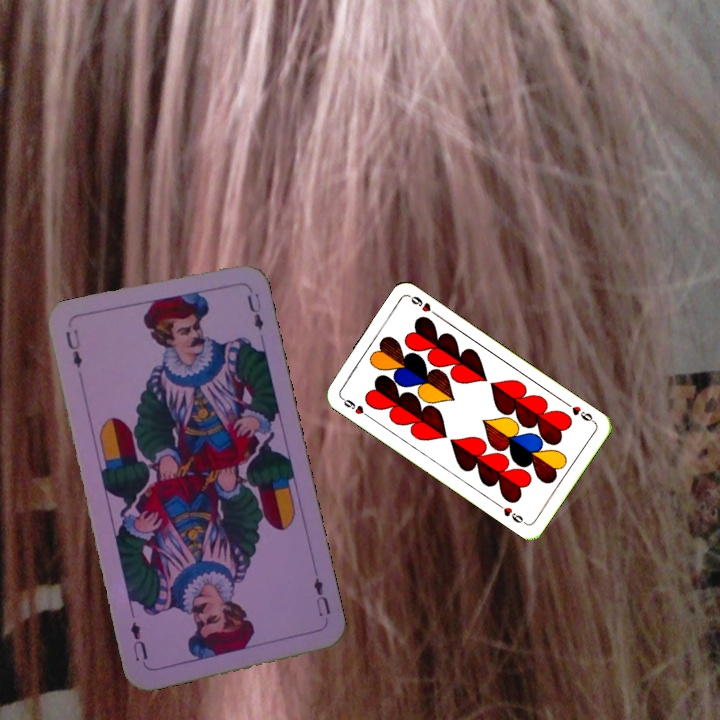EU: (309, 573, 333, 620), (61, 325, 85, 371)
H9: (337, 393, 373, 421), (562, 399, 598, 426)
